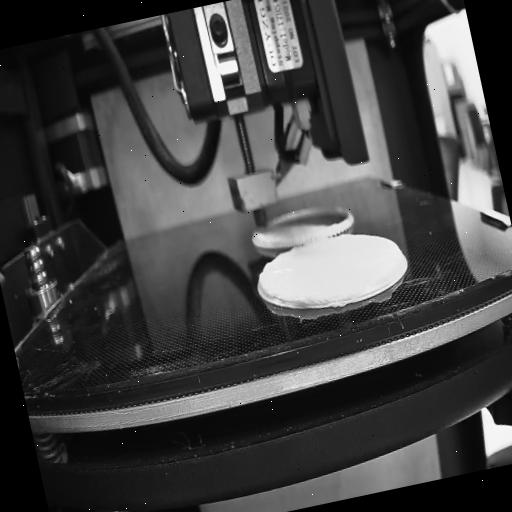over_extrusion: (252, 258, 282, 300)
